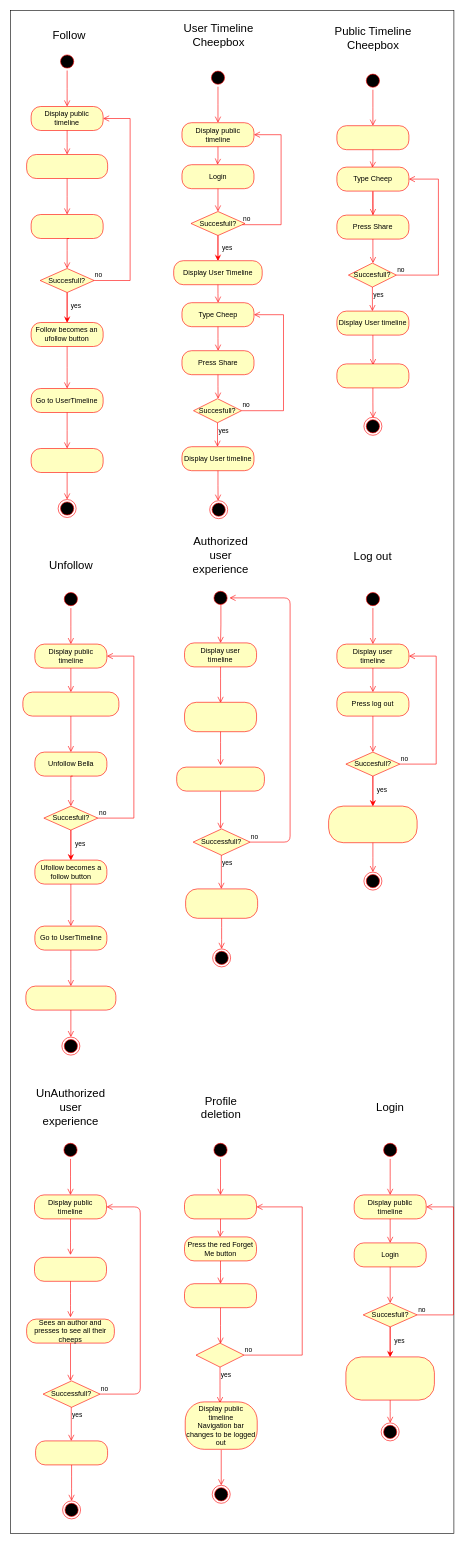
The diagram is 470 pixels wide and 1544 high, and some of its shapes have lost their labels. Here are the shapes that lost their labels. From the top down, the centre of each, then its label:
At (x=372, y=137): "Display public timeline logged in".
At (x=67, y=166): "See a follow button next to a username: Bella".
At (x=67, y=226): "Follow Bella".
At (x=372, y=375): "Shows new cheep".
At (x=67, y=460): "See own cheeps and Bella's cheeps".
At (x=70, y=704): "See an ufollow button next to a username: Bella".
At (x=220, y=717): "See all cheeps from themself and those they're following".
At (x=220, y=778): "Goes to profile page".
At (x=372, y=824): "Navigationbar changes. CheepBox disappear. Redirected to public timeline".
At (x=221, y=903): "See whose following them and who they're following".
At (x=70, y=998): "See own cheeps and none of Bella's cheeps".
At (x=220, y=1206): "Display userpage".
At (x=70, y=1269): "See all cheeps".
At (x=220, y=1295): "Press confirm on alert box".
At (x=219, y=1354): "Condition".
At (x=389, y=1378): "Navigationbar changes. CheepBox appear. Cheeps get a follow/unfollow button.".
At (x=71, y=1452): "Show the users timeline".
